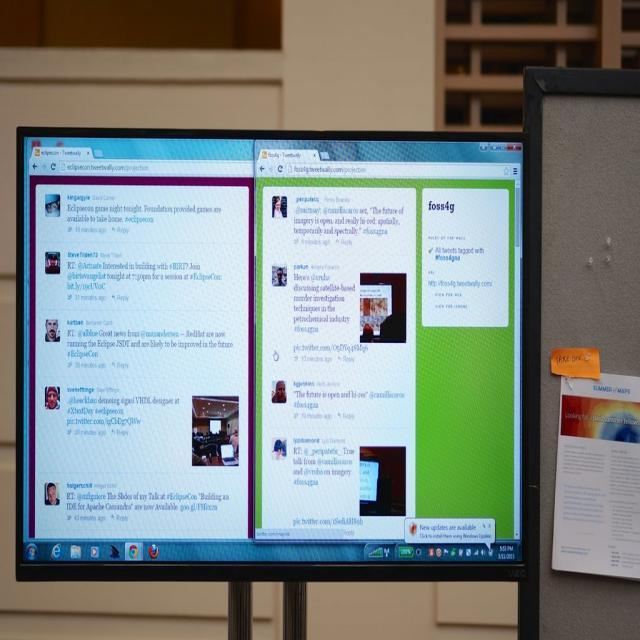others: (8, 65, 640, 640)
